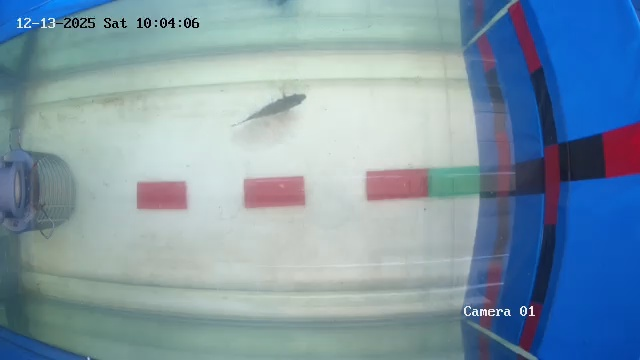fish: (249, 87, 308, 120)
